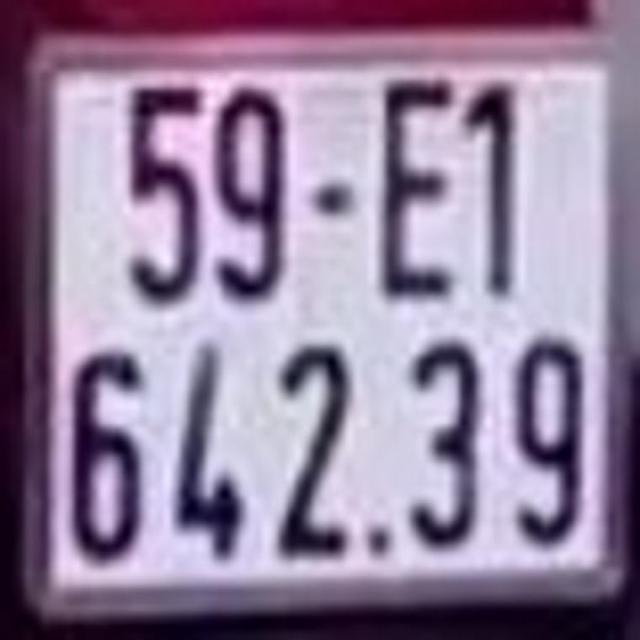1: (466, 78, 520, 292)
2: (282, 339, 346, 551)
3: (414, 344, 472, 541)
4: (176, 348, 243, 556)
5: (126, 88, 203, 297)
6: (67, 354, 141, 554)
9: (214, 84, 285, 300), (513, 338, 583, 533)
E: (379, 71, 456, 299)
